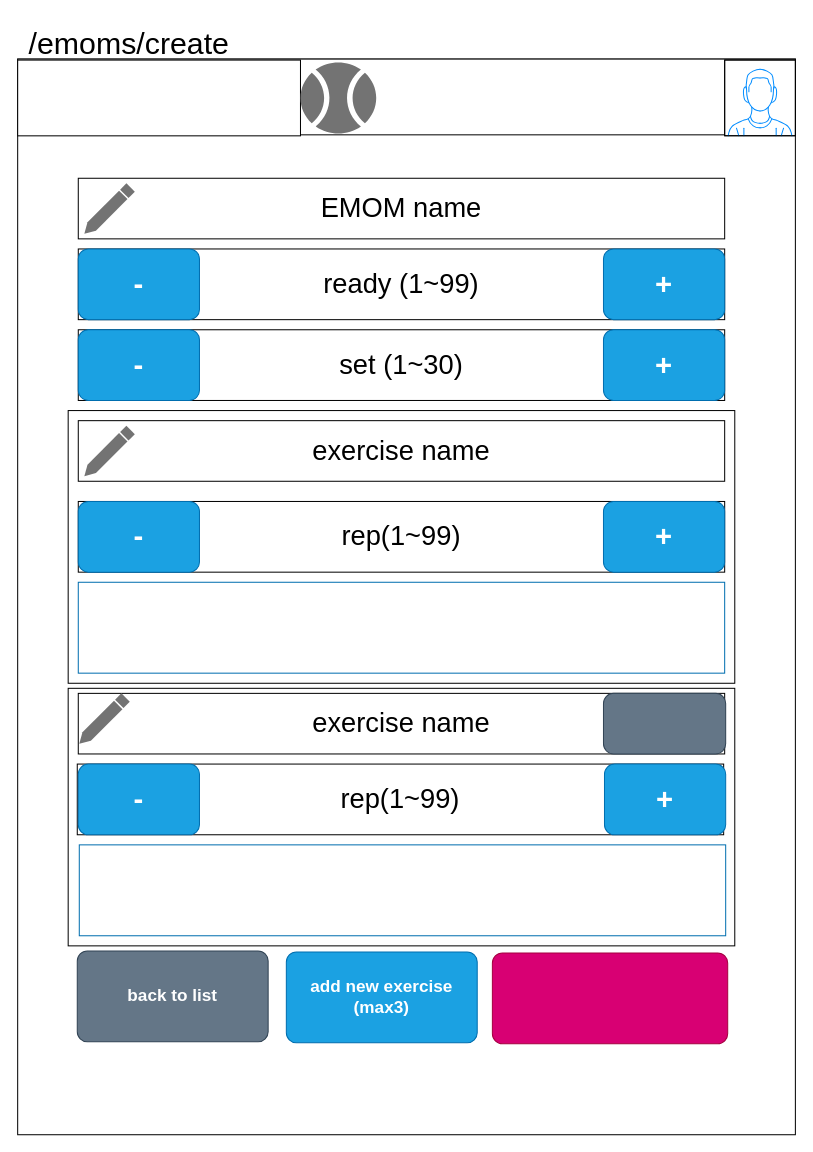
This 813x1152 diagram has some shape labels left out. The shapes that lost their labels are listed below. From the top down, each one's box as (x1, y1, x2, y2) in pixels, then its label:
(17, 59, 300, 136): EMOM Path
(602, 692, 726, 754): delete exercise
(491, 952, 728, 1044): start EMOM
